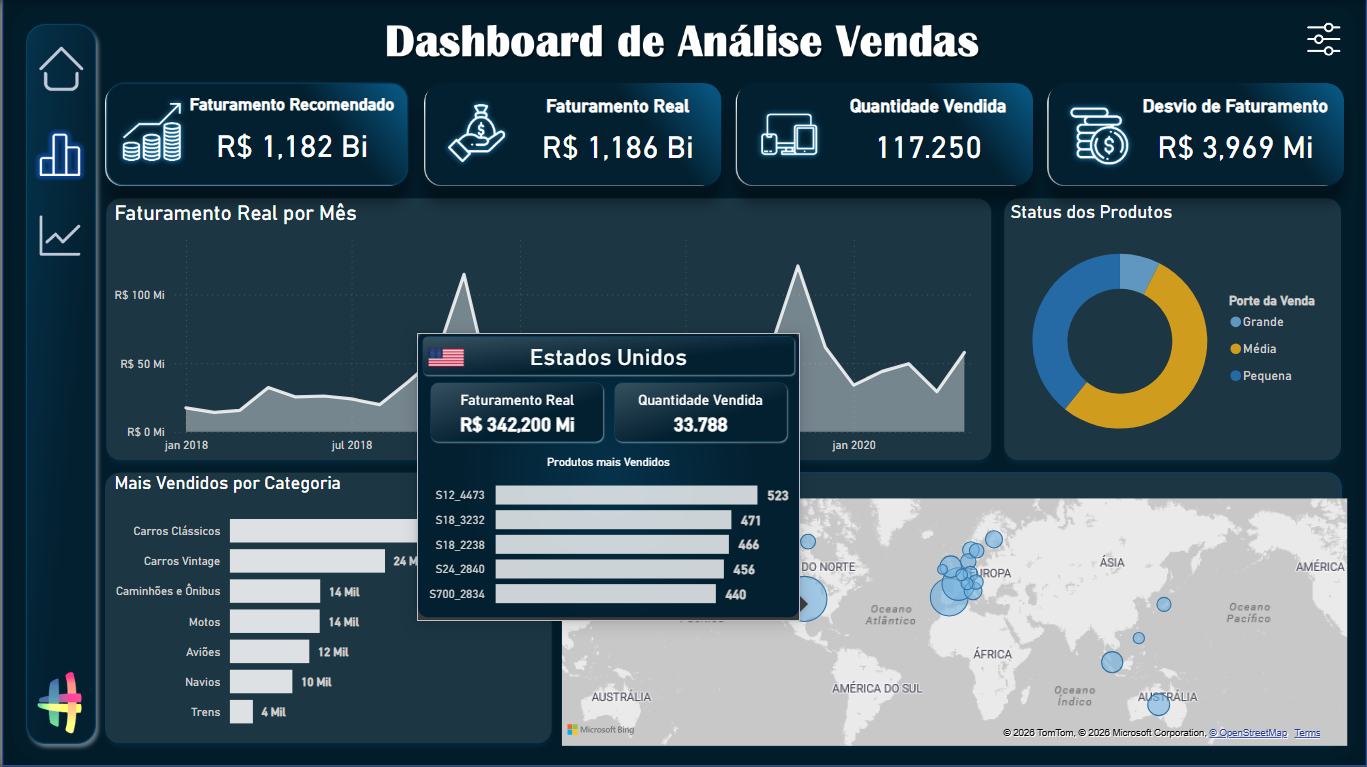

Layout of this report page (visuals, bound fields, positions):
{"tool":"powerbi","page":{"name":"Inicial","canvas":[1280,720],"ordinal":1},"visuals":[{"type":"card","title":"Faturamento Recomendado","fields":{"Values":["Medidas.Faturamento Total Previsto"]},"box":[168.9,89.5,207,73.8],"z":0},{"type":"card","title":"Faturamento Real","fields":{"Values":["Medidas.Faturamento Total Real"]},"box":[474.6,89.5,203.9,73.6],"z":1000},{"type":"card","title":"Quantidade Vendida","fields":{"Values":["Medidas.Qtde Vendida"]},"box":[770.8,89.5,194.7,73.8],"z":2000},{"type":"card","title":"Desvio de Faturamento","fields":{"Values":["Medidas.Desvio de Preço"]},"box":[1056.3,89.2,199.7,73.6],"z":3000},{"type":"stackedAreaChart","title":"Faturamento Real por Mês","fields":{"Category":["dCalendario.Inicio do Mês"],"Y":["Medidas.Faturamento Total Real"]},"box":[100.4,188.5,827.7,243.2],"z":4000},{"type":"image","title":"Botão de Filtro","box":[1219.2,21.2,39,31.2],"z":5000},{"type":"clusteredBarChart","title":"Mais Vendidos por Categoria","fields":{"Y":["Medidas.Qtde Vendida"],"Category":["dProduto.Categoria"]},"box":[100.4,442.8,413.8,252.1],"z":6000},{"type":"map","title":"Faturamento Real por Pais","fields":{"Category":["dLocalidade.Pais"],"Size":["Medidas.Faturamento Total Real"]},"box":[519.8,442.8,746.2,261],"z":7000},{"type":"actionButton","title":"Botão Capa","box":[22.3,37.2,68.3,60.8],"z":8000},{"type":"donutChart","title":"Status dos Produtos","fields":{"Y":["Medidas.Qtde Vendida"],"Series":["fVendas.Porte da Venda1"]},"box":[940.3,188.5,317.9,243.2],"z":9000},{"type":"actionButton","box":[22.6,191.3,67.8,57.1],"z":11000},{"type":"actionButton","title":"Botão Capa","box":[21.1,187.5,68.3,60.8],"z":12000}]}

Visuals, with their boxes in screenshot pixels (x1, y1, x2, y2), scaled from the page's 1280x720 canvas onto the 1367x767 screenshot:
"Faturamento Recomendado" card: {"x1": 180, "y1": 95, "x2": 401, "y2": 174}
"Faturamento Real" card: {"x1": 507, "y1": 95, "x2": 725, "y2": 174}
"Quantidade Vendida" card: {"x1": 823, "y1": 95, "x2": 1031, "y2": 174}
"Desvio de Faturamento" card: {"x1": 1128, "y1": 95, "x2": 1341, "y2": 173}
"Faturamento Real por Mês" stackedAreaChart: {"x1": 107, "y1": 201, "x2": 991, "y2": 460}
"Botão de Filtro" image: {"x1": 1302, "y1": 23, "x2": 1344, "y2": 56}
"Mais Vendidos por Categoria" clusteredBarChart: {"x1": 107, "y1": 472, "x2": 549, "y2": 740}
"Faturamento Real por Pais" map: {"x1": 555, "y1": 472, "x2": 1352, "y2": 750}
"Botão Capa" actionButton: {"x1": 24, "y1": 40, "x2": 97, "y2": 104}
"Status dos Produtos" donutChart: {"x1": 1004, "y1": 201, "x2": 1344, "y2": 460}
actionButton: {"x1": 24, "y1": 204, "x2": 97, "y2": 265}
"Botão Capa" actionButton: {"x1": 23, "y1": 200, "x2": 95, "y2": 265}
